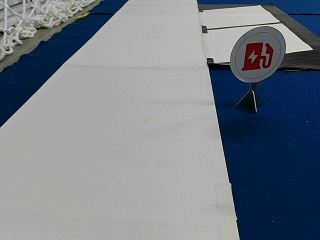battery: (228, 25, 285, 84)
